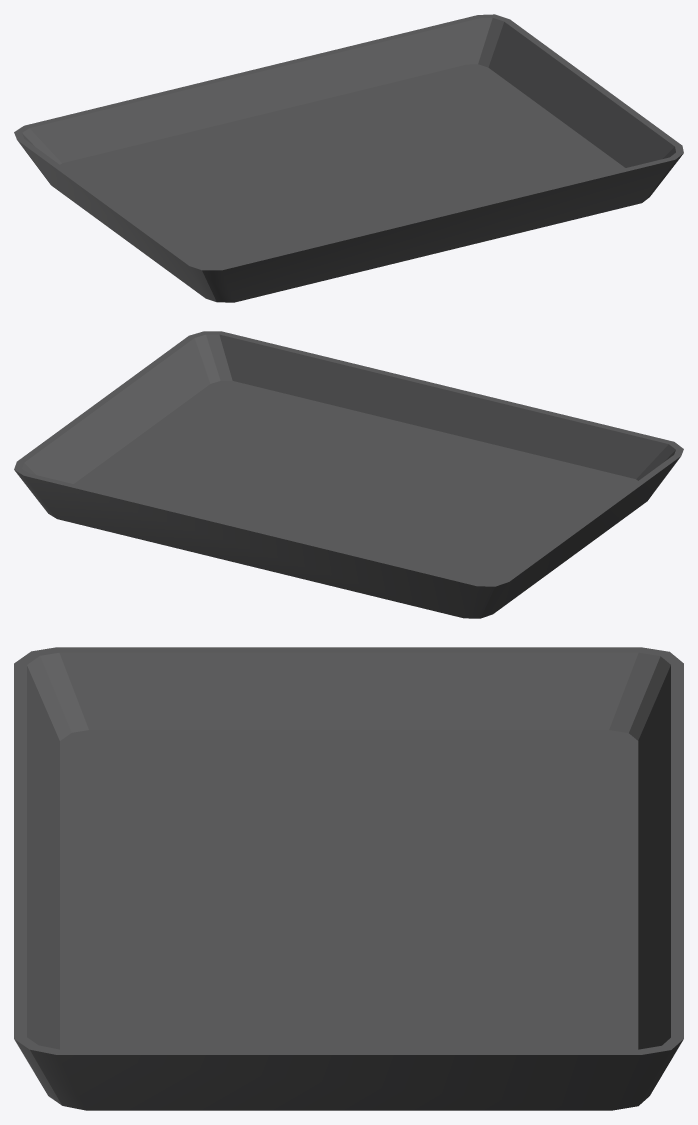
The model's file is tray2.FBX.
3 renders of one model, top to bottom at view 1: azimuth 30°, elevation 25°; view 2: azimuth 150°, elevation 25°; view 3: azimuth 270°, elevation 25°, orthographic. The views are drawn at different scales.
Parts seen in each view (by area): view 1: tray2; view 2: tray2; view 3: tray2.
Part boxes in pixels (bbox=[...]): tray2: bbox=[14, 14, 683, 302]; tray2: bbox=[14, 331, 683, 618]; tray2: bbox=[14, 647, 683, 1110].
Size of the model in its own units: 9.63 by 6.68 by 0.8425.
